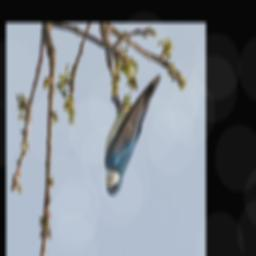Swallow: (101, 73, 164, 201)
